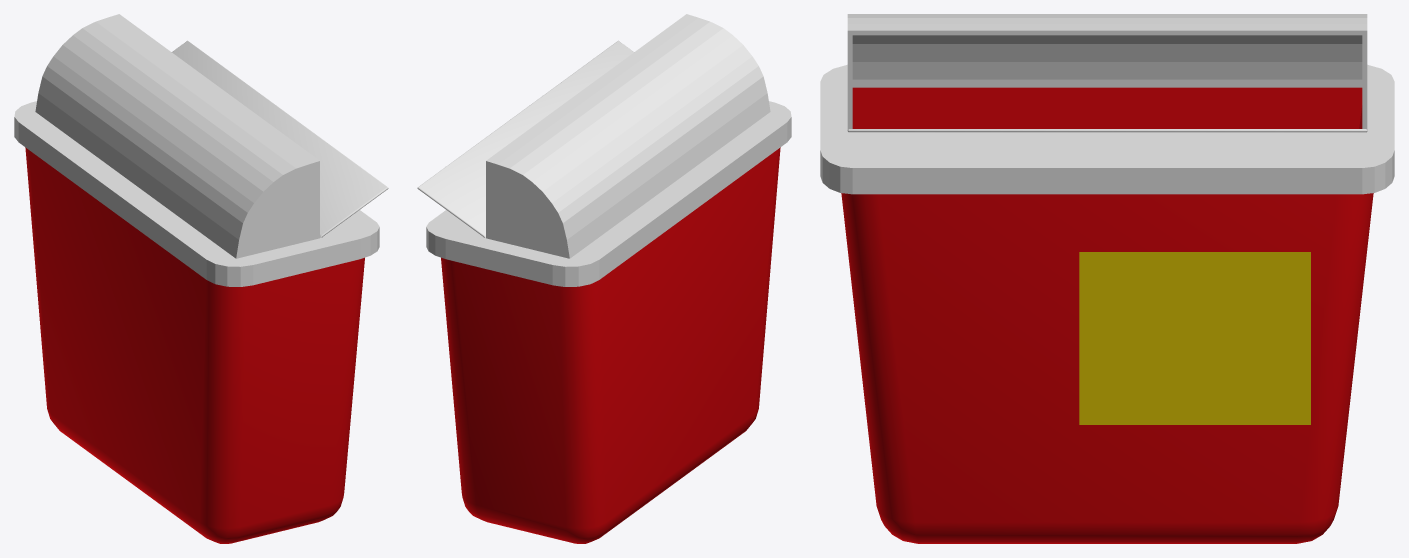
File: BiohazardContainer.002.fbx
The picture shows the model from 3 angles, left to right: view 1: azimuth 30°, elevation 25°; view 2: azimuth 150°, elevation 25°; view 3: azimuth 270°, elevation 25°; orthographic projection. The views are drawn at different scales.
Visible parts, largest first — view 1: GEO_BiohazardContainer_Bin, GEO_BiohazardContainer_Lid, GEO_BiohazardContainer_Arm; view 2: GEO_BiohazardContainer_Bin, GEO_BiohazardContainer_Lid, GEO_BiohazardContainer_Arm; view 3: GEO_BiohazardContainer_Bin, GEO_BiohazardContainer_Lid, GEO_BiohazardContainer_Label, GEO_BiohazardContainer_BinInterior, GEO_BiohazardContainer_Arm.
Part boxes in pixels (x1,y1,x2,y2): GEO_BiohazardContainer_Bin: [25, 147, 364, 543]; GEO_BiohazardContainer_Lid: [14, 14, 379, 286]; GEO_BiohazardContainer_Arm: [172, 40, 388, 237]; GEO_BiohazardContainer_Bin: [441, 147, 780, 543]; GEO_BiohazardContainer_Lid: [426, 14, 791, 286]; GEO_BiohazardContainer_Arm: [417, 40, 633, 237]; GEO_BiohazardContainer_Bin: [841, 193, 1373, 543]; GEO_BiohazardContainer_Lid: [820, 14, 1394, 194]; GEO_BiohazardContainer_Label: [1079, 252, 1310, 424]; GEO_BiohazardContainer_BinInterior: [852, 87, 1362, 128]; GEO_BiohazardContainer_Arm: [847, 129, 1367, 132].
Size of the model in its own units: 129 by 270 by 282.
